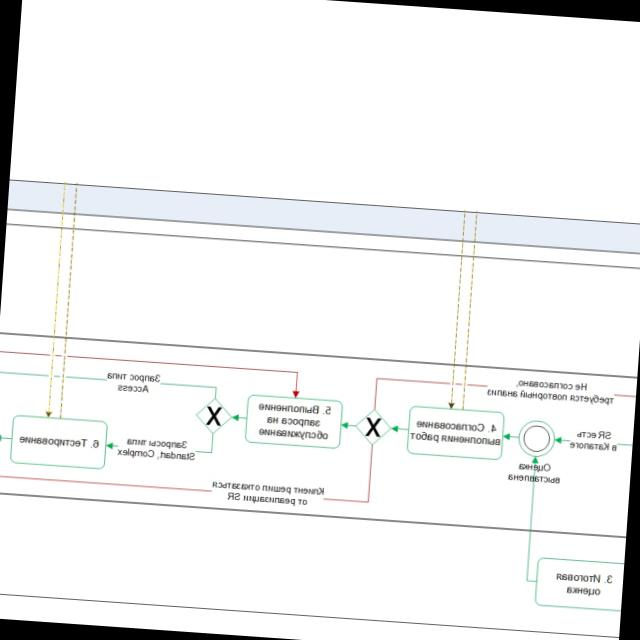arrow: (105, 426, 215, 456), (523, 457, 544, 582), (391, 423, 408, 435), (230, 412, 247, 424), (340, 418, 356, 430), (502, 432, 518, 442)
circle: (517, 418, 556, 456)
diamond: (197, 398, 230, 432), (355, 410, 388, 443)
rectangle: (407, 406, 503, 459), (245, 395, 341, 448), (10, 416, 106, 468)
text_region: (486, 374, 614, 404), (212, 478, 324, 508), (116, 435, 194, 462), (106, 369, 160, 394), (506, 460, 562, 484), (568, 428, 618, 453)
